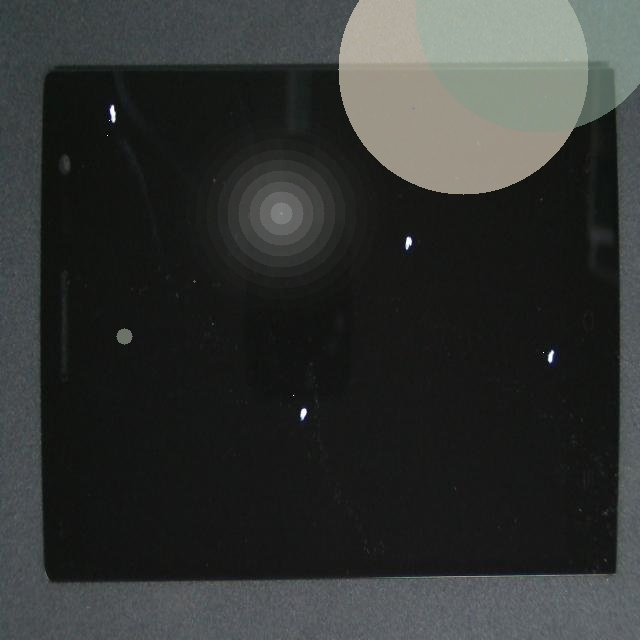stain: (264, 192, 640, 577), (172, 152, 446, 600), (170, 110, 596, 391), (22, 0, 150, 169)
